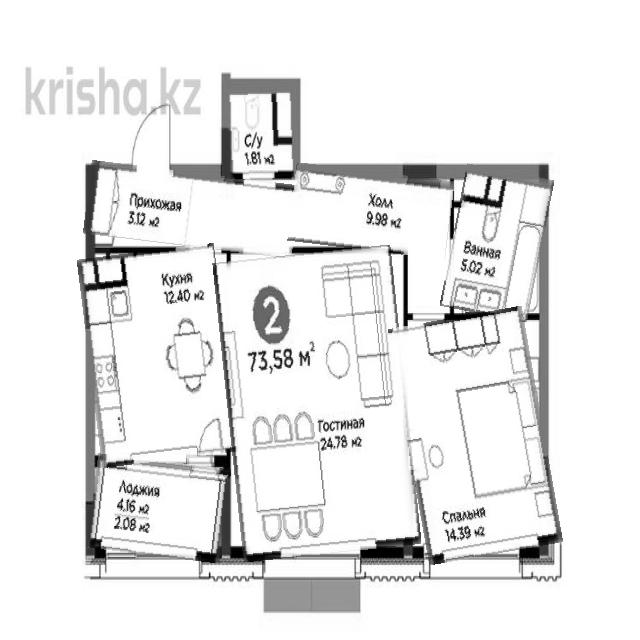balcony: (89, 457, 229, 560)
bathroom: (446, 167, 547, 318), (228, 81, 297, 179)
hallway: (85, 167, 299, 253), (289, 167, 452, 254)
kitchen: (84, 247, 234, 464)
living_room: (220, 249, 413, 558), (398, 311, 554, 561)
